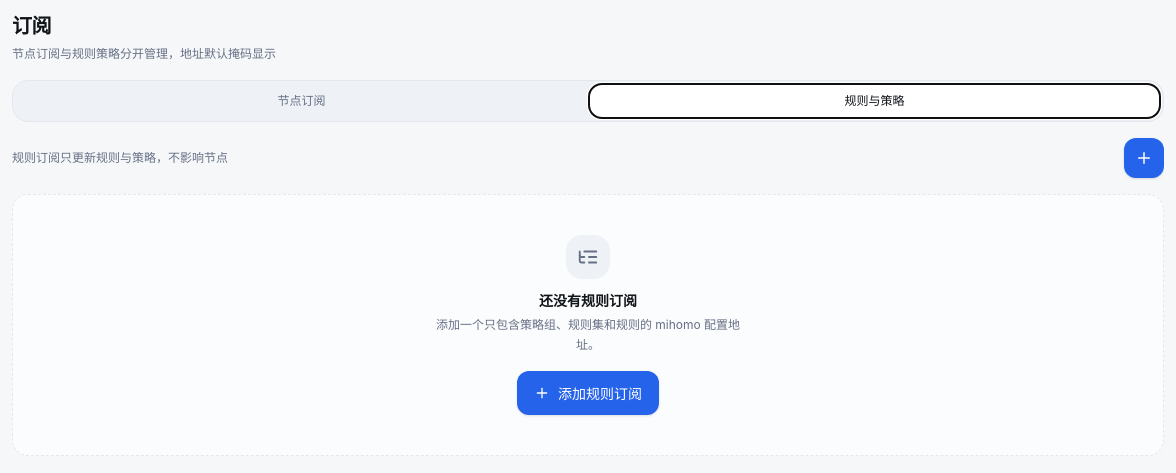
Scenario: SubscriptionsPage › switches between node subscriptions and the rule profile tab
Earlier steps of the test are not shown.
Expected: the text "还没有规则订阅" is shown, [539,291,637,311]
Expected: the text "机场 A" is not shown
What coordinates should you click on to do the following:
click the link "节点订阅"
I would click on:
 (302, 100)
Its box is [278,93,326,108].
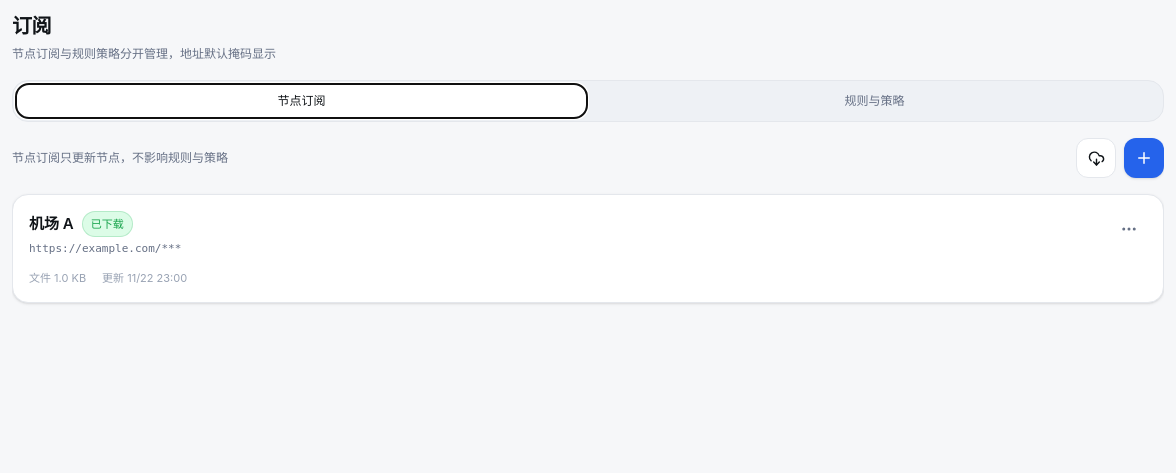
Expected: the button named "添加订阅" is shown, [1124,138,1164,178]
Expected: the heading "机场 A" is shown, [29,213,74,235]
